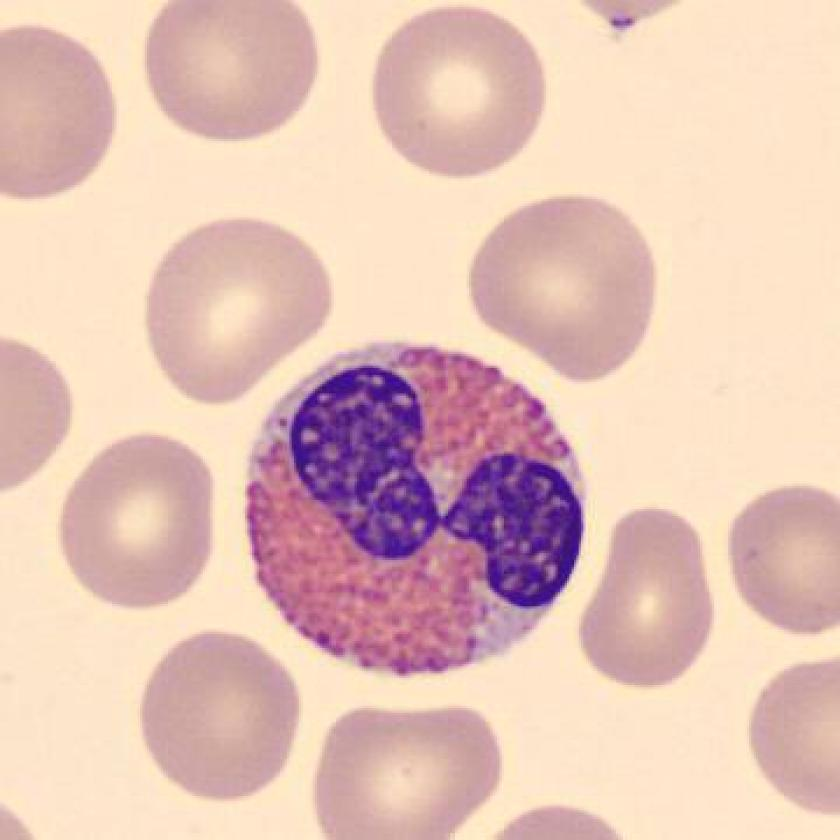eosinophil: (230, 330, 598, 688)
